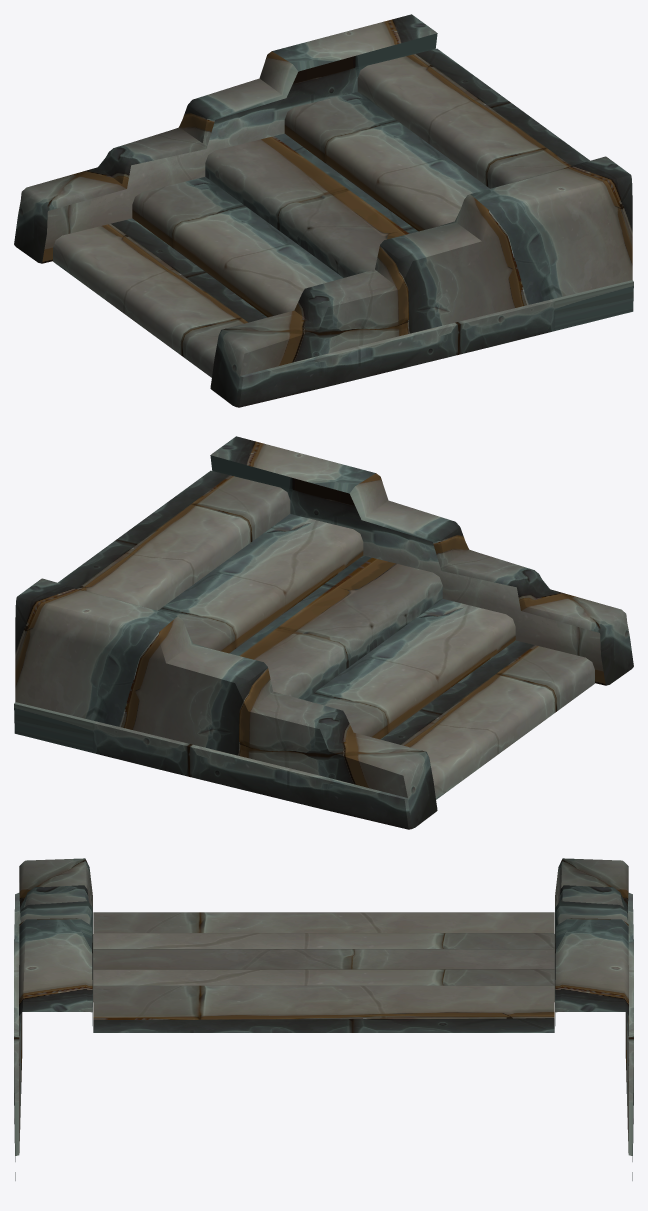
The model's file is SM_Stairs.glb.
3 views of the same model, one above another, from view 1: azimuth 30°, elevation 25°; view 2: azimuth 150°, elevation 25°; view 3: azimuth 270°, elevation 25° (orthographic). The views are drawn at different scales.
Parts seen in each view (by area): view 1: SM_Stairs_LOD0; view 2: SM_Stairs_LOD0; view 3: SM_Stairs_LOD0.
Part boxes in pixels (x1=…): SM_Stairs_LOD0: x1=14, y1=14, x2=633, y2=407; SM_Stairs_LOD0: x1=14, y1=436, x2=633, y2=829; SM_Stairs_LOD0: x1=14, y1=858, x2=633, y2=1180.
Size of the model in its own units: 3.09 by 1 by 3.04.
1 material, 1 textured.
